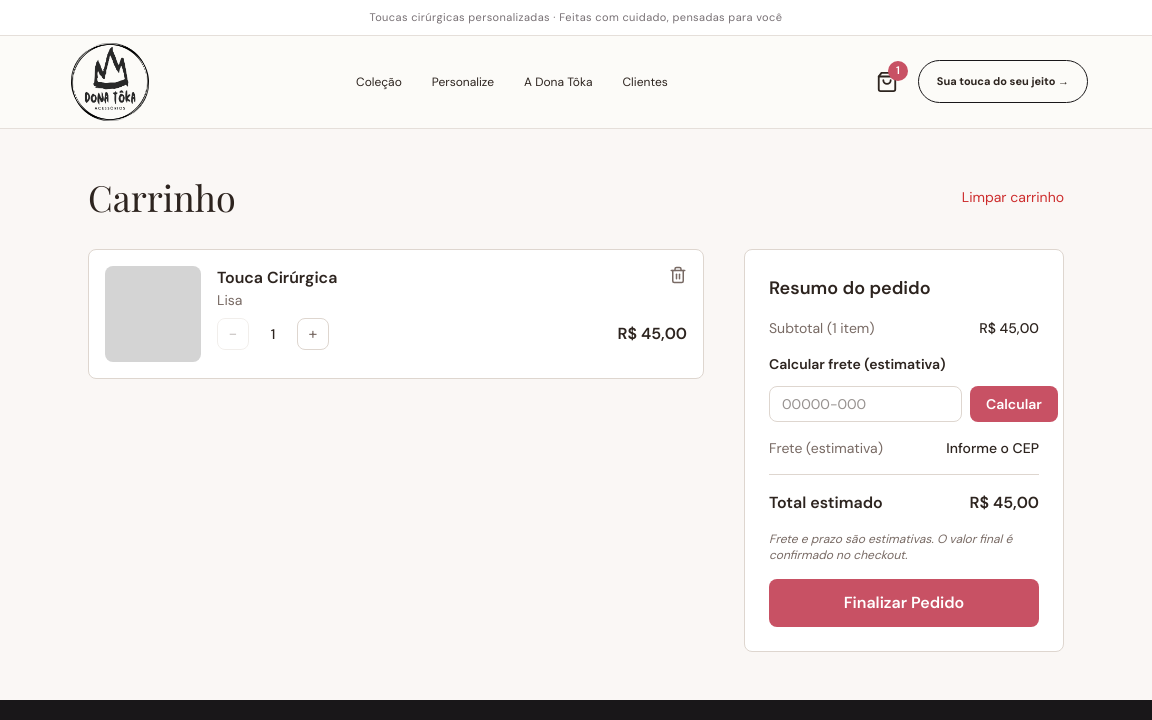
it: cart route editing › incrementing quantity updates the line item display
The image size is (1152, 720).
Expected: the text "Touca Cirúrgica" is shown, [217, 266, 337, 290]
Click the button named "aumentar quantidade".
click(313, 334)  # box [297, 318, 329, 350]
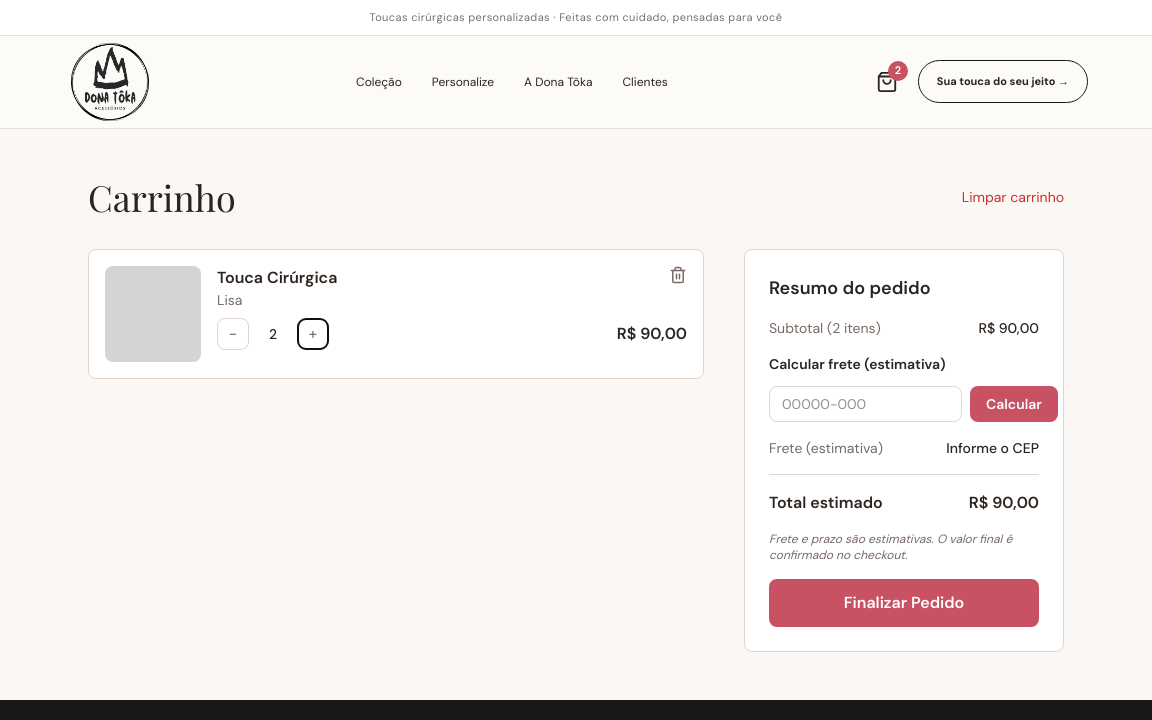
Result: the text named "Quantidade: 2" is shown at [269, 324, 277, 342]
